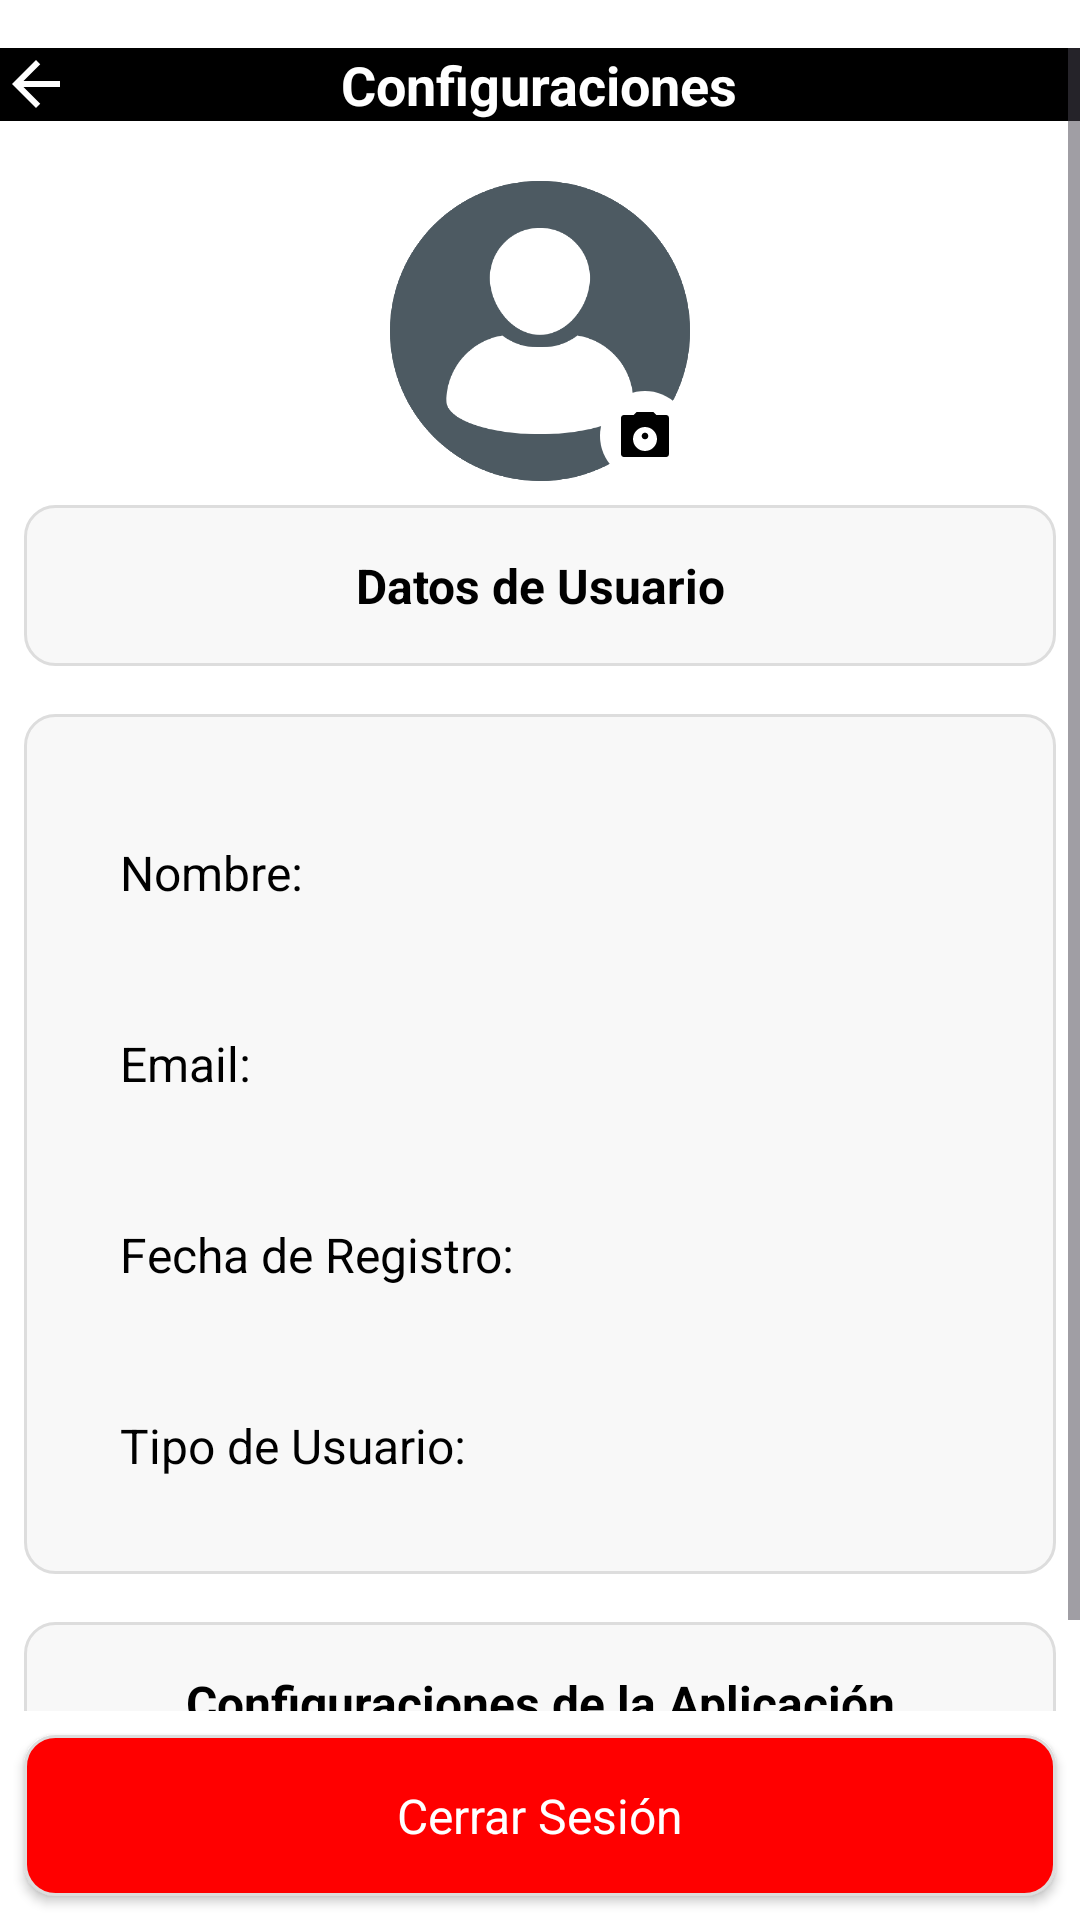

Screen size 1080px×1920px. Icon name, then its box in pixels as (x1, y1, x2, y2):
Back button: (12, 60, 60, 108)
